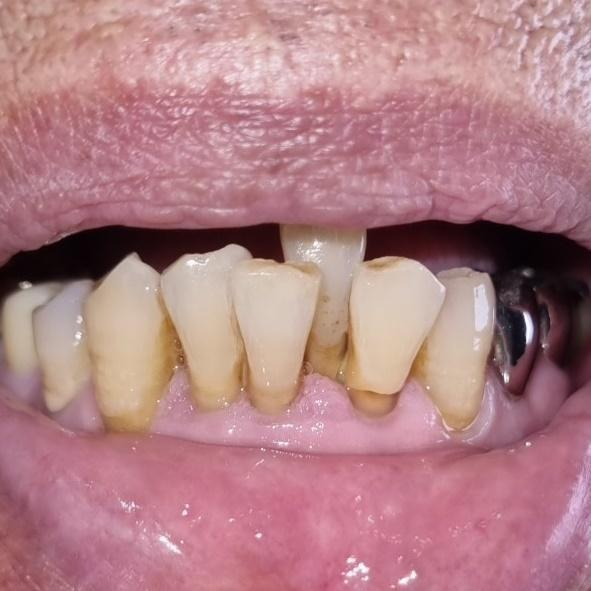Crowding: (231, 218, 428, 411)
